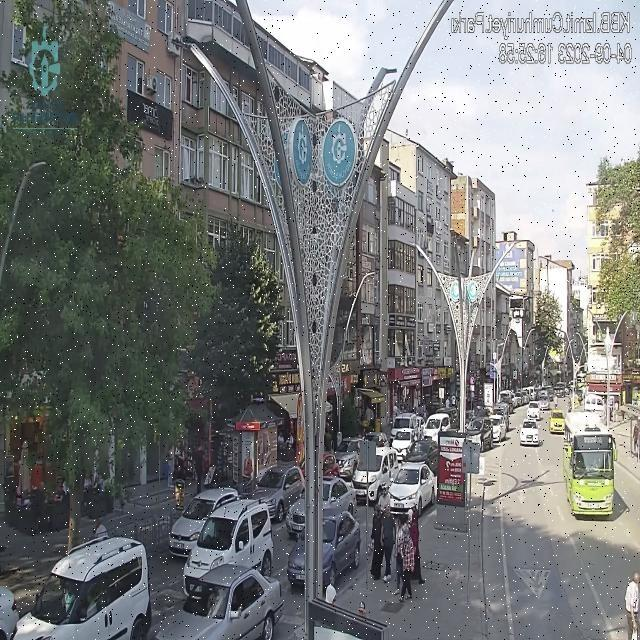Bus: (562, 410, 617, 520)
Car: (11, 536, 150, 639), (163, 562, 282, 639), (169, 485, 243, 559), (308, 508, 360, 590), (246, 463, 303, 522), (352, 438, 397, 506), (384, 462, 436, 518), (316, 476, 356, 526), (390, 412, 424, 454), (401, 439, 438, 477), (332, 438, 362, 480), (286, 537, 307, 590), (424, 412, 454, 444), (467, 418, 494, 451), (519, 419, 540, 446), (489, 412, 507, 442), (527, 401, 541, 421), (512, 394, 522, 407)
